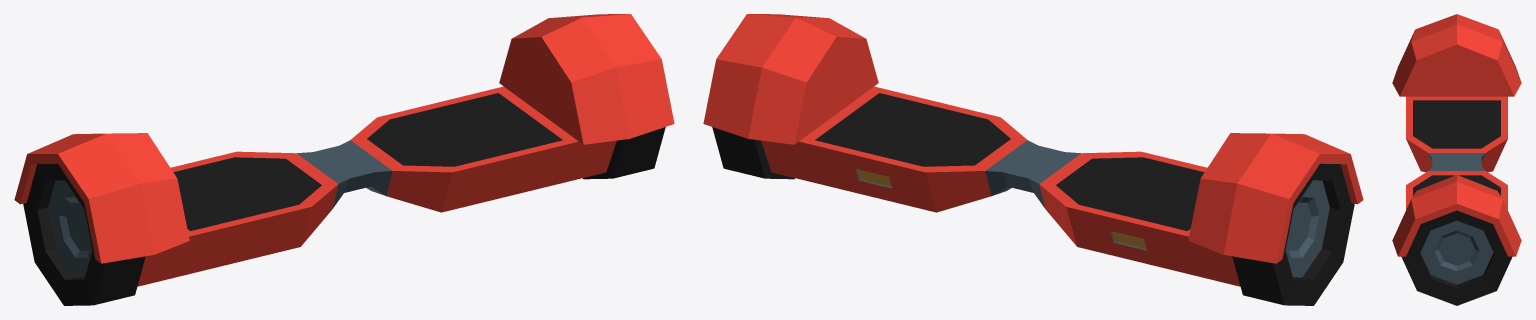
The model's file is hover_j.glb.
The picture shows the model from 3 angles, left to right: view 1: azimuth 30°, elevation 25°; view 2: azimuth 150°, elevation 25°; view 3: azimuth 270°, elevation 25°; orthographic projection. The views are drawn at different scales.
Parts seen in each view (by area): view 1: Circle; view 2: Circle; view 3: Circle.
Part boxes in pixels (bbox=[...]): Circle: bbox=[14, 14, 674, 305]; Circle: bbox=[703, 14, 1363, 305]; Circle: bbox=[1392, 14, 1521, 305].
Bounding box in the file's own units: 10.4 × 2.81 × 3.
